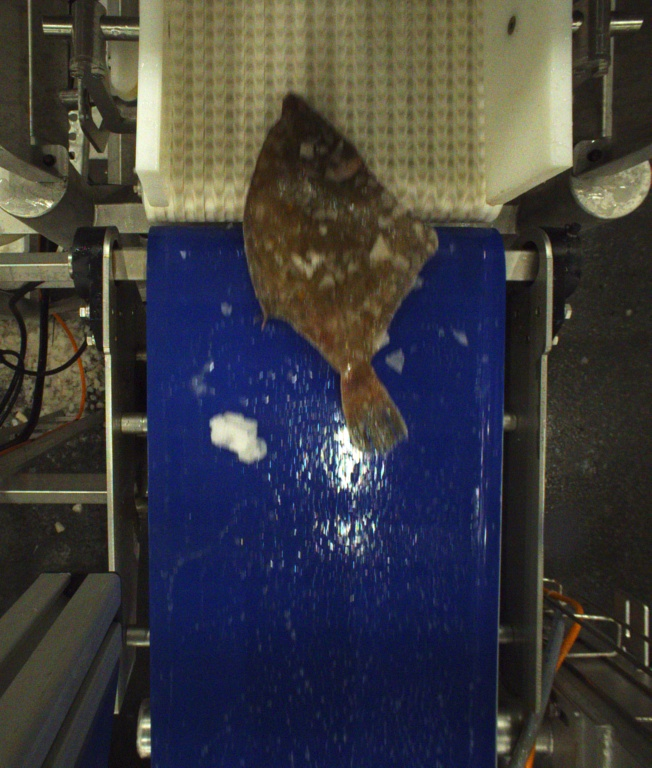PLE: (241, 93, 439, 457)
